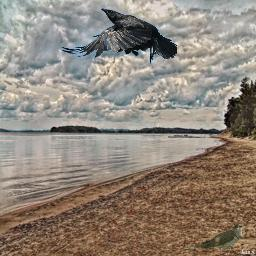Crow: (58, 7, 177, 65)
Cuckoo: (177, 223, 242, 253)
